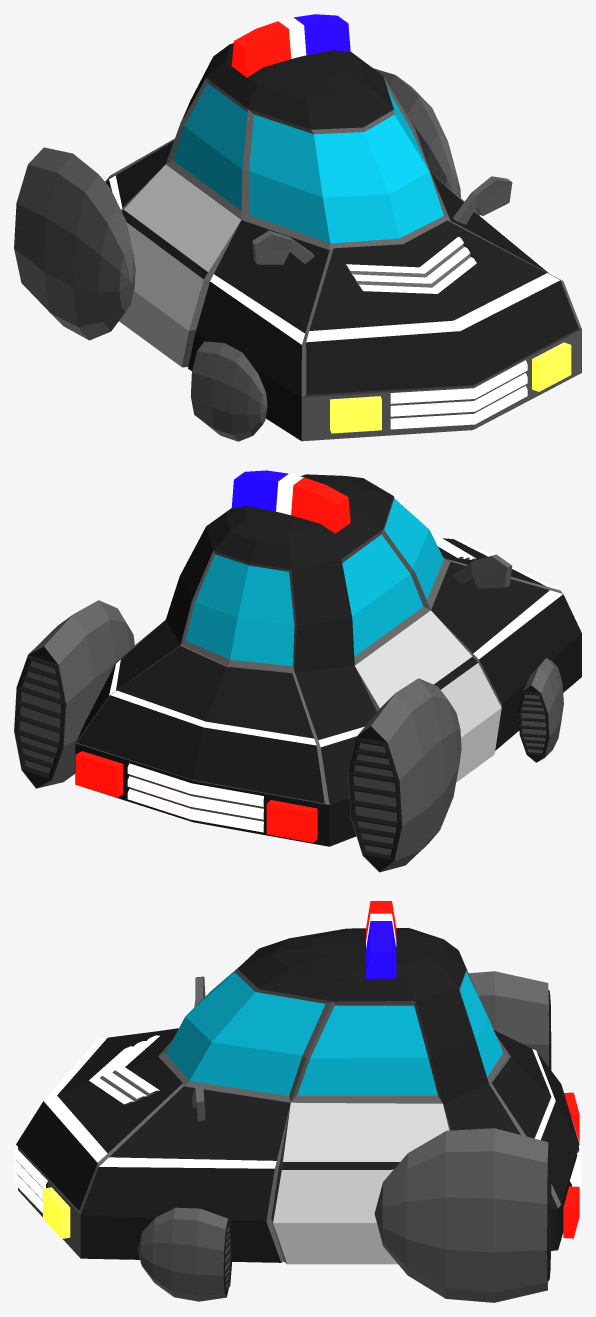
Rendered from POLIC.fbx.
3 views of the same model, one above another, from view 1: azimuth 30°, elevation 25°; view 2: azimuth 150°, elevation 25°; view 3: azimuth 270°, elevation 25° (orthographic).
Parts seen in each view (by area): view 1: Куб; view 2: Куб; view 3: Куб.
Boxes of the visible parts, x1=… form: Куб: x1=14, y1=14, x2=581, y2=441; Куб: x1=14, y1=470, x2=581, y2=872; Куб: x1=14, y1=901, x2=581, y2=1302.
Size of the model in its own units: 146 by 110 by 186.
